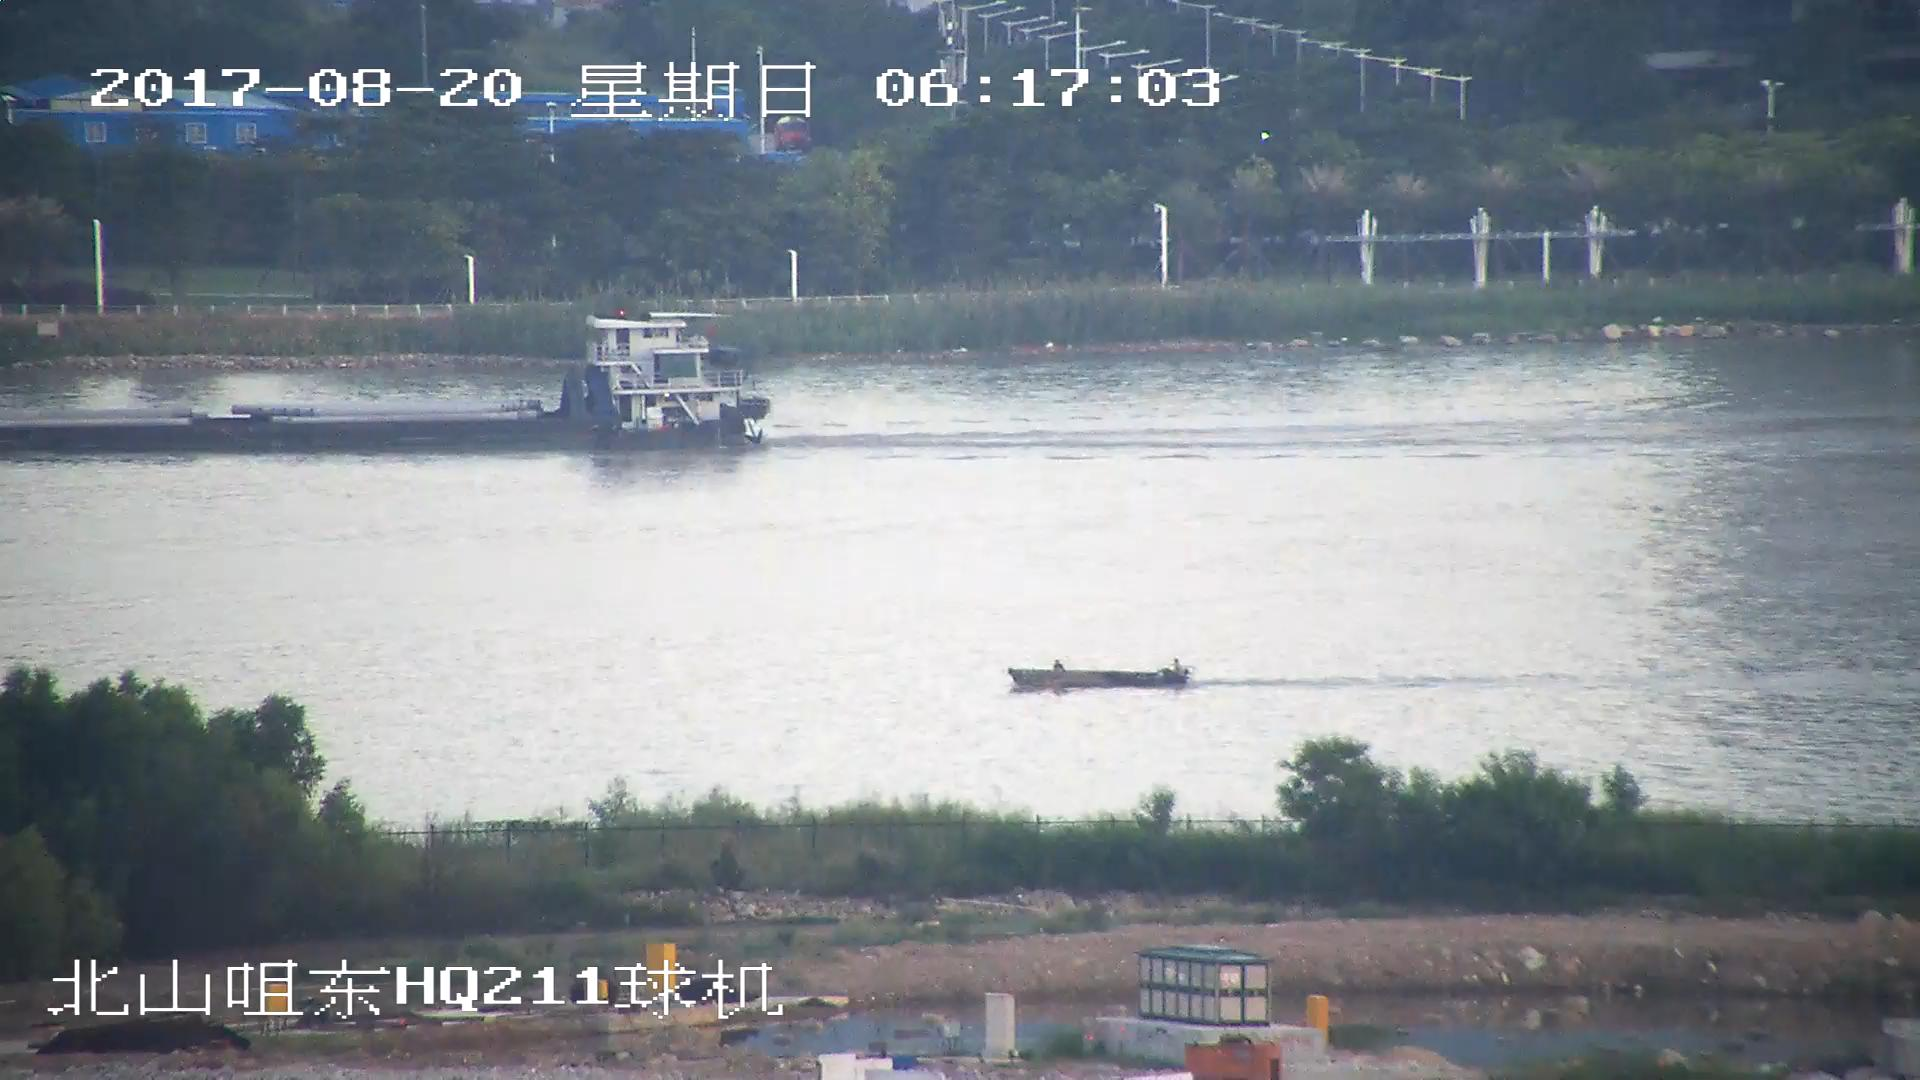bulk cargo carrier: (1, 313, 768, 449)
fishing boat: (1007, 664, 1190, 690)
